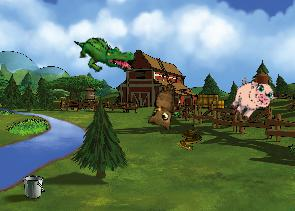crocodile: (74, 35, 135, 74)
owl: (146, 83, 175, 130)
pig: (224, 71, 279, 127)
